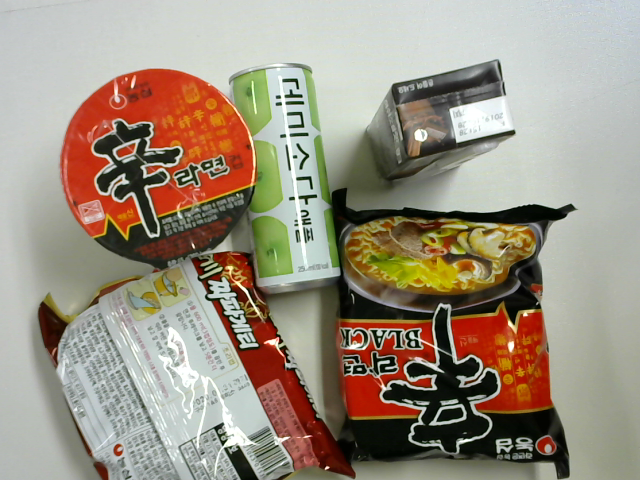Demisoda_Apple_Can_250ml: (231, 62, 339, 294)
Hush_Choco_Drink: (369, 56, 513, 190)
Sichuan_Chapaghetti: (35, 252, 360, 480)
Sinramen_Black: (325, 186, 579, 480)
Sinramen_small: (53, 68, 257, 260)
